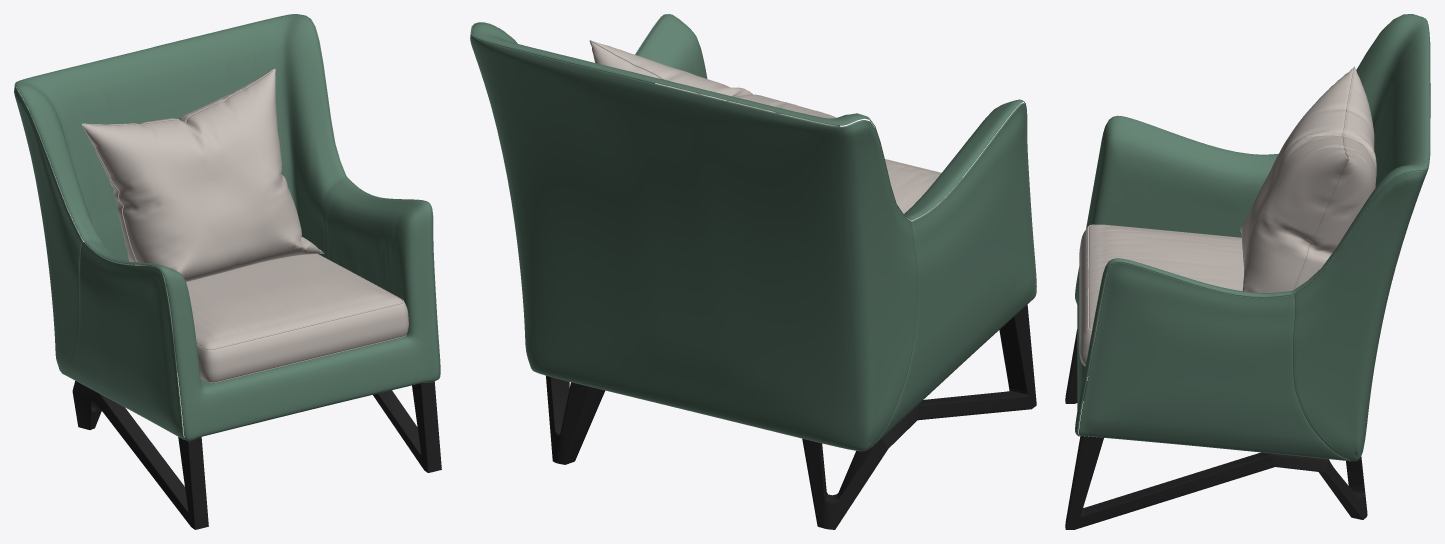
Rendered from armchair_green.glb.
3 renders of one model, left to right at view 1: azimuth 30°, elevation 25°; view 2: azimuth 150°, elevation 25°; view 3: azimuth 270°, elevation 25°, orthographic. The views are drawn at different scales.
Parts seen in each view (by area): view 1: armchair; view 2: armchair; view 3: armchair.
Part boxes in pixels (<box>): armchair: <box>14,14,441,529</box>; armchair: <box>470,14,1036,529</box>; armchair: <box>1065,14,1430,529</box>.
Size of the model in its own units: 1.32 by 1.44 by 1.28.
